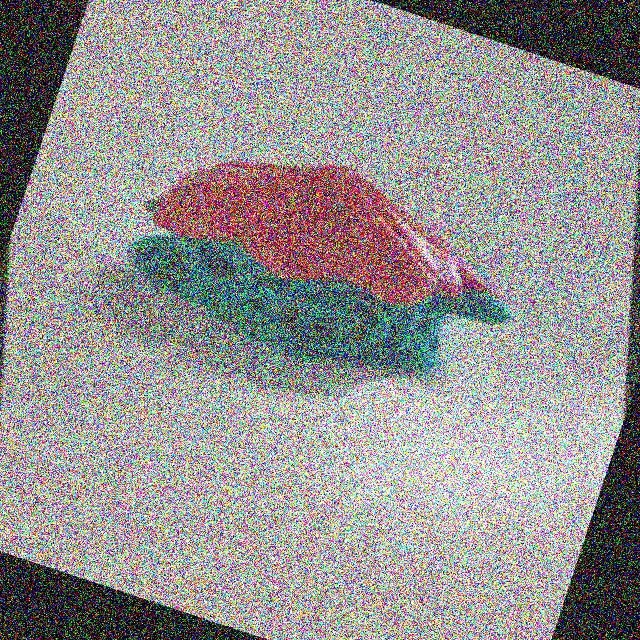House: (59, 68, 591, 445)
